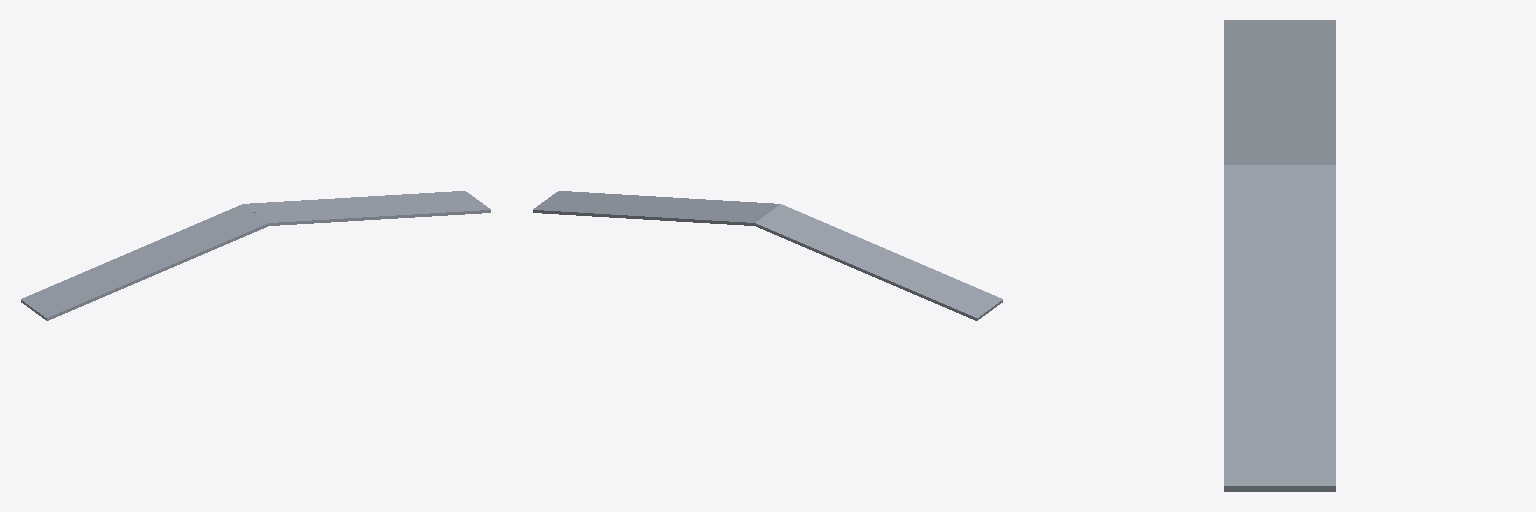
robot.urdf — env_4:
<?xml version="1.0" encoding="utf-8"?>
<robot name="env_4">
  <link name="base_link">
    <inertial>
      <origin xyz="0.984808 0.1 0.080324" rpy="0 0 0" />
      <mass value="1.0" />
      <inertia ixx="0.0033474167" ixy="0" ixz="0" iyy="0.3333474167" iyz="0" izz="0.3366666667" />
    </inertial>

    <visual>
      <origin xyz="0.492404 0.1 0.080324" rpy="0 -0.174533 0" />
      <geometry>
        <box size="1.0 0.2 0.013" />
      </geometry>
      <material name="ledge_gray">
        <color rgba="0.65 0.68 0.72 1" />
      </material>
    </visual>
    <collision>
      <origin xyz="0.492404 0.1 0.080324" rpy="0 -0.174533 0" />
      <geometry>
        <box size="1.0 0.2 0.013" />
      </geometry>
    </collision>

    <visual>
      <origin xyz="1.474212 0.1 0.080324" rpy="0 0.174533 0" />
      <geometry>
        <box size="1.0 0.2 0.013" />
      </geometry>
      <material name="ledge_gray">
        <color rgba="0.65 0.68 0.72 1" />
      </material>
    </visual>
    <collision>
      <origin xyz="1.477212 0.1 0.080324" rpy="0 0.174533 0" />
      <geometry>
        <box size="1.0 0.2 0.013" />
      </geometry>
    </collision>
  </link>
</robot>

--- What the picture shows (computed from the rendered views, not written in the file) ---
3 views of the same robot in one strip: view 1: azimuth 30°, elevation 25°; view 2: azimuth 150°, elevation 25°; view 3: azimuth 270°, elevation 25° (orthographic).
Robot: env_4 — 1 links, 0 joints (none); root link base_link; default pose: every joint at zero.
Links seen in each view (by area): view 1: base_link; view 2: base_link; view 3: base_link.
Boxes of the visible links, <box> form: base_link: <box>21,191,490,320</box>; base_link: <box>533,191,1002,320</box>; base_link: <box>1224,20,1335,491</box>.
Size in the robot's own frame: 1.97 by 0.2 by 0.1865 metres.
Geometry: primitives only (box / cylinder / sphere), no mesh files.
